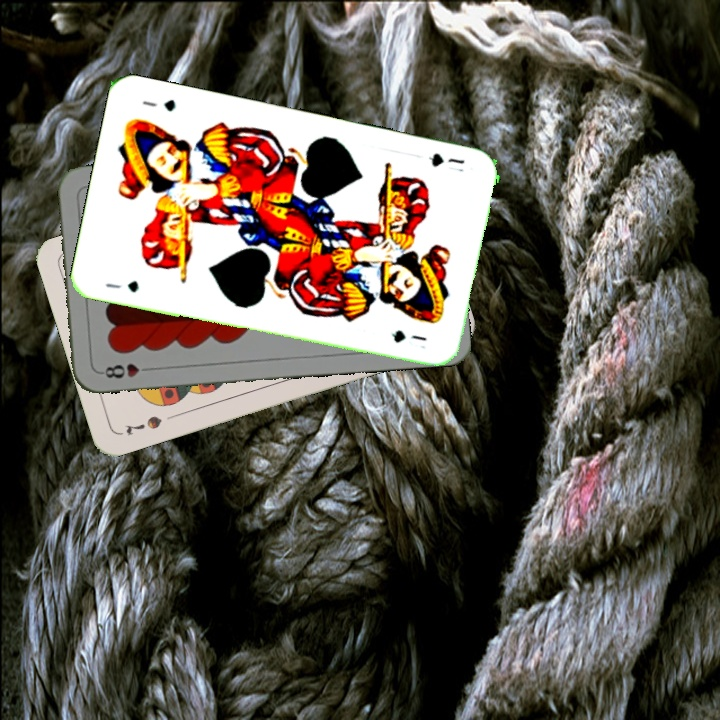GU: (424, 149, 467, 169), (102, 276, 142, 295)
H8: (97, 359, 156, 382)
S7: (122, 412, 165, 438)
